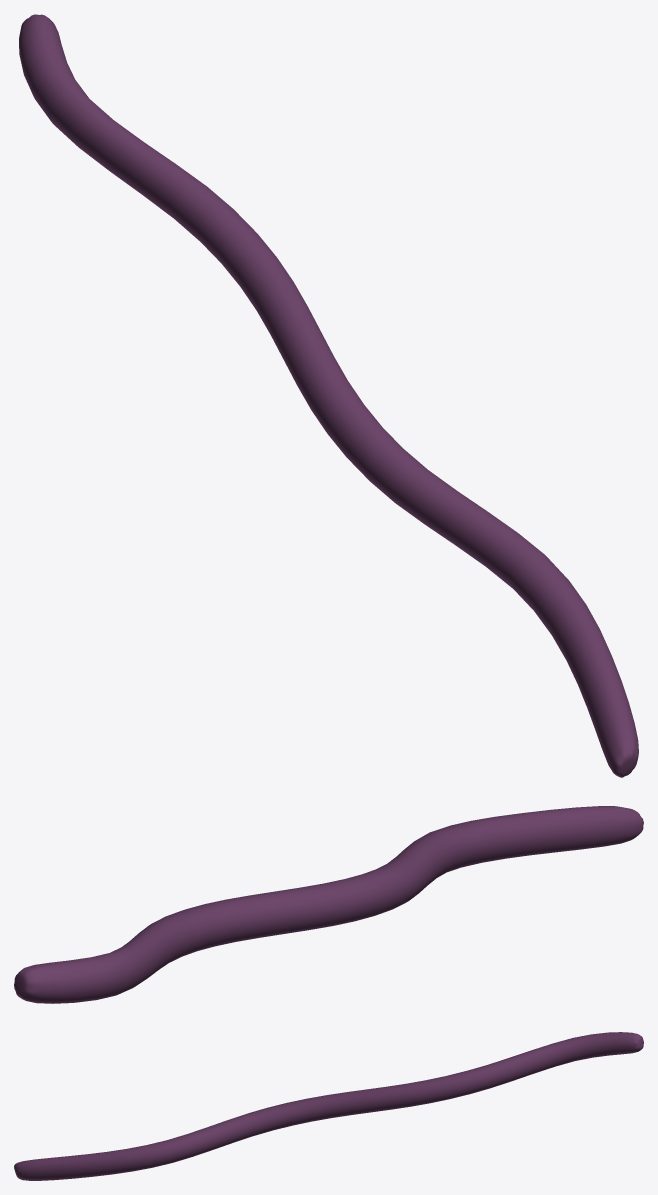
File: frame_9.obj
3 renders of one model, top to bottom at view 1: azimuth 30°, elevation 25°; view 2: azimuth 150°, elevation 25°; view 3: azimuth 270°, elevation 25°, orthographic. The views are drawn at different scales.
Parts seen in each view (by area): view 1: worm2; view 2: worm2; view 3: worm2.
Part boxes in pixels (box(x1,y1,x2,y2)): worm2: box(19, 14, 638, 777); worm2: box(14, 806, 643, 1003); worm2: box(14, 1032, 643, 1180).
Size of the model in its own units: 148 by 456 by 1716.
